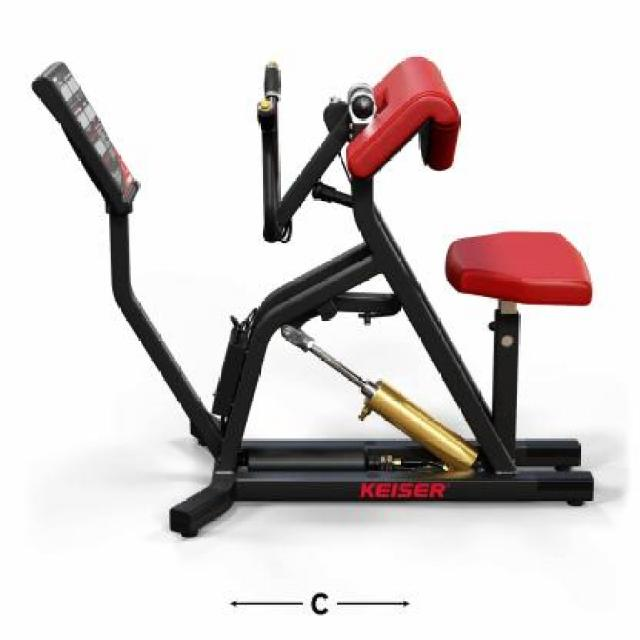arm curl machine: (31, 54, 595, 538)
